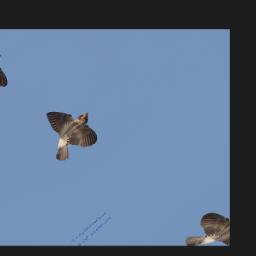Swallow: (19, 95, 115, 168)
